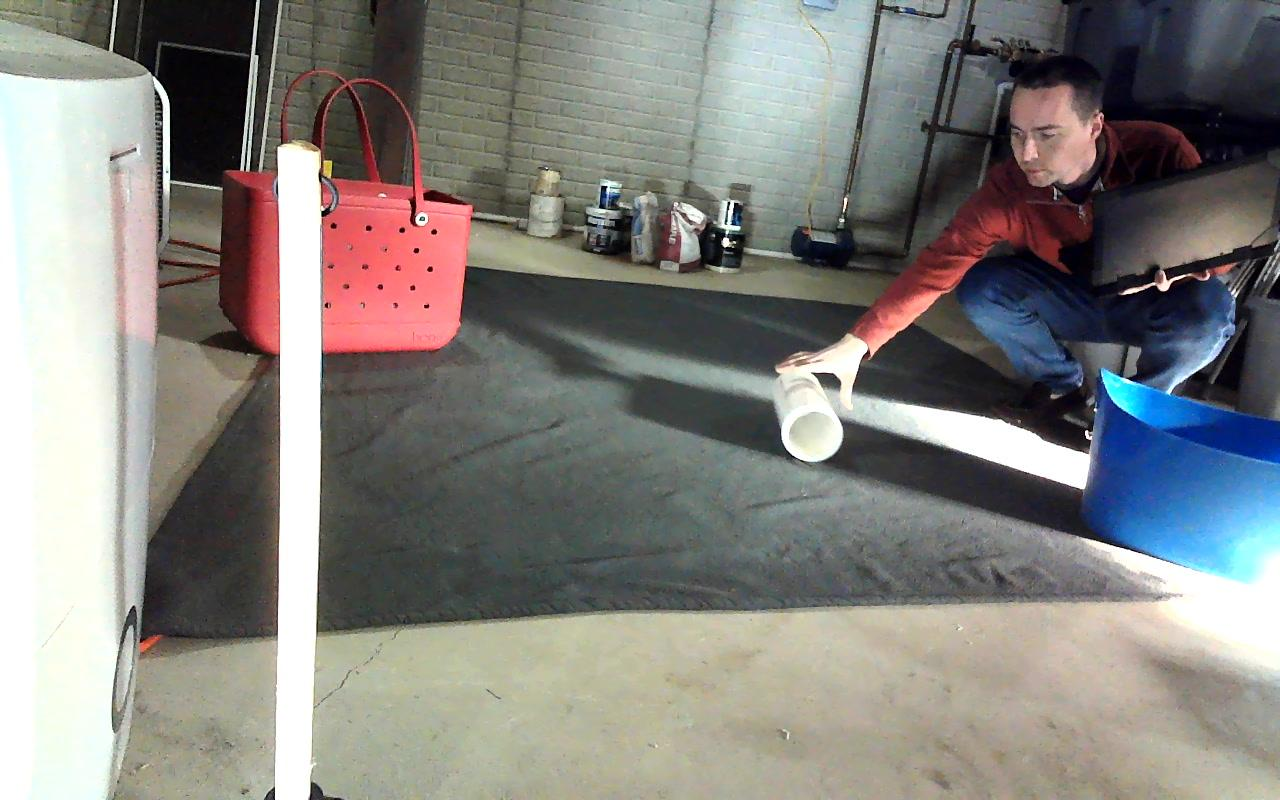coral: (771, 367, 844, 461)
